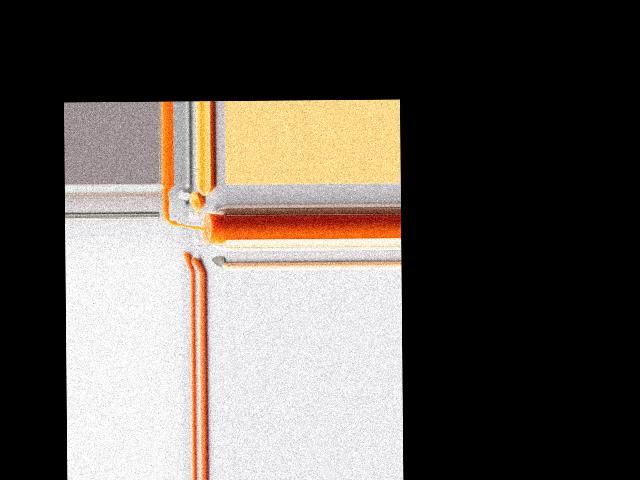carrot: (184, 250, 207, 272)
